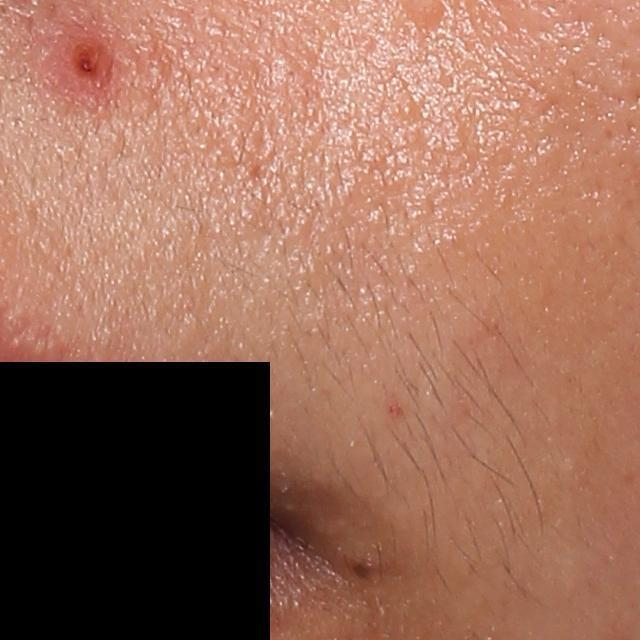nevus: (348, 558, 372, 580)
papule: (60, 26, 116, 90)
